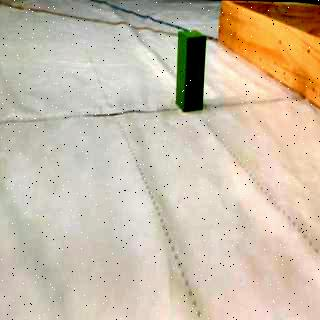greenbox: (176, 28, 207, 112)
